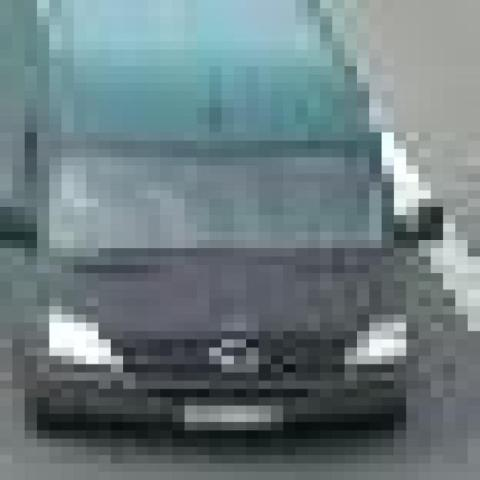van: (0, 0, 406, 439)
